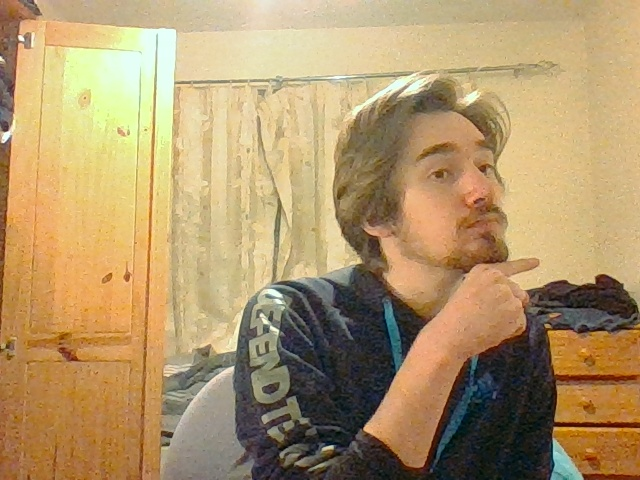son: (469, 257, 542, 334)
